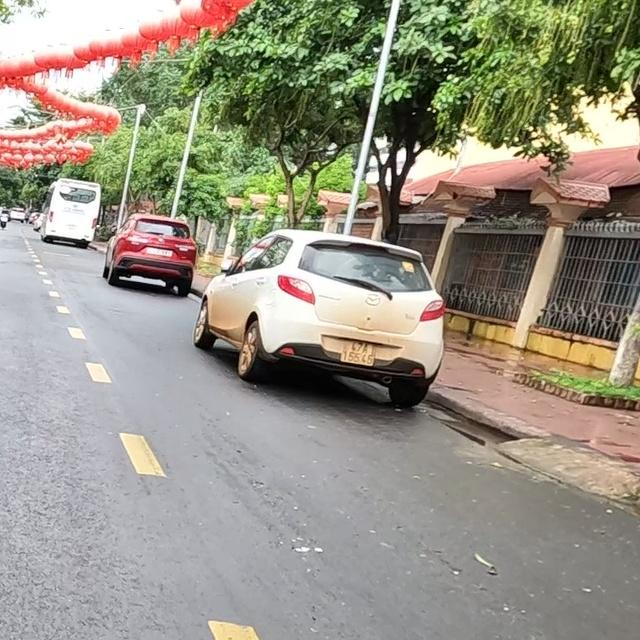license-plate: (340, 341, 376, 366)
